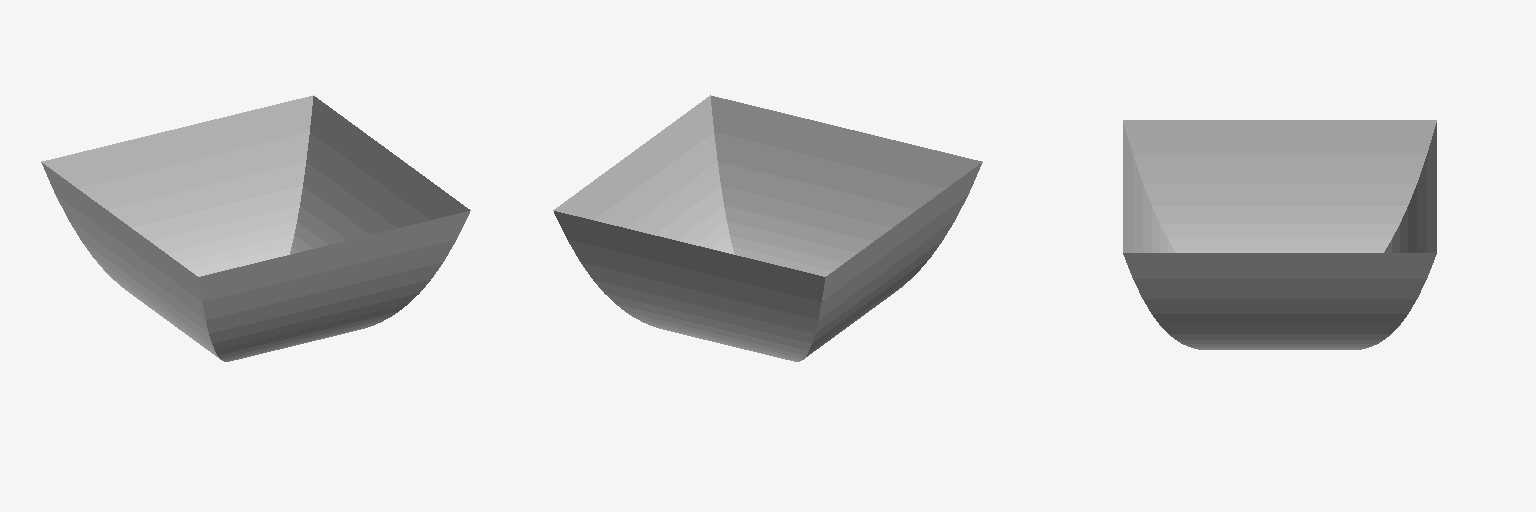
Rendered from Exponential.obj.
The picture shows the model from 3 angles: view 1: azimuth 30°, elevation 25°; view 2: azimuth 150°, elevation 25°; view 3: azimuth 270°, elevation 25°; orthographic projection.
Parts seen in each view (by area): view 1: Exponential_XYZ_Function.002; view 2: Exponential_XYZ_Function.002; view 3: Exponential_XYZ_Function.002.
Part boxes in pixels (left/top/right/bottom): Exponential_XYZ_Function.002: left=41, top=95, right=470, bottom=361; Exponential_XYZ_Function.002: left=553, top=95, right=982, bottom=361; Exponential_XYZ_Function.002: left=1123, top=120, right=1436, bottom=349.
Size of the model in its own units: 2 by 0.9792 by 2.